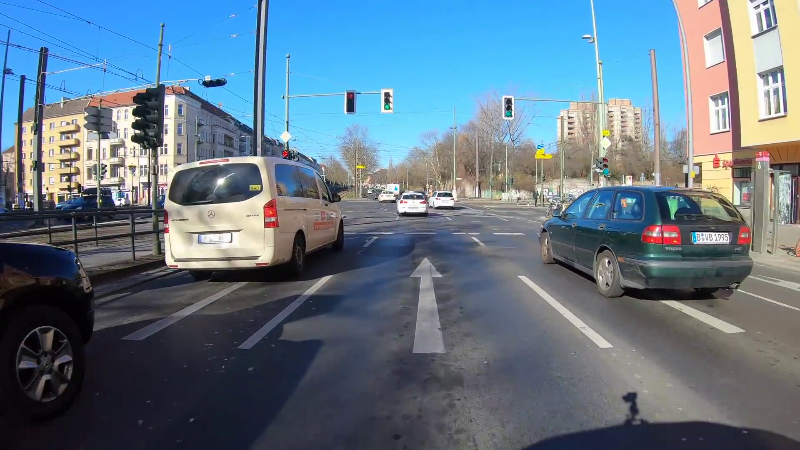Plate: (689, 230, 731, 243), (195, 231, 234, 244)
